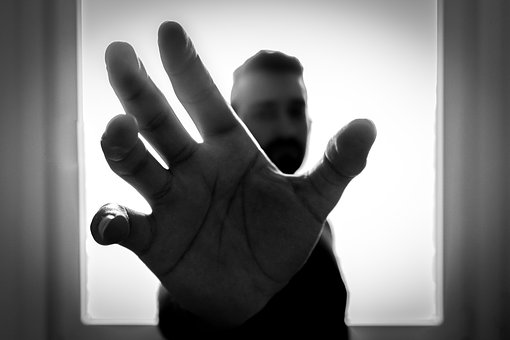palm: (158, 151, 312, 306)
